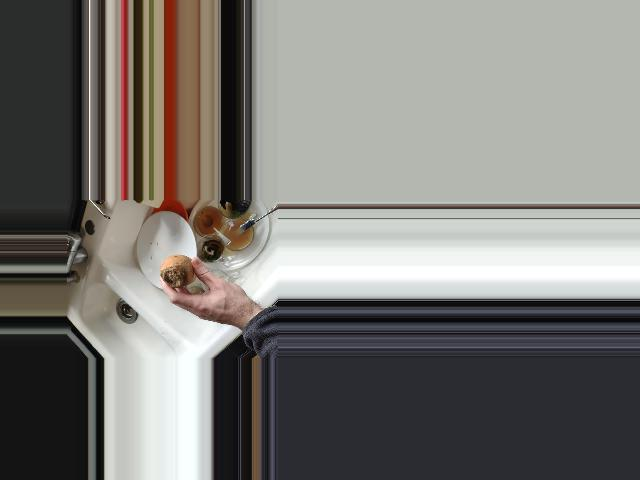sweet_potato: (158, 253, 203, 289)
